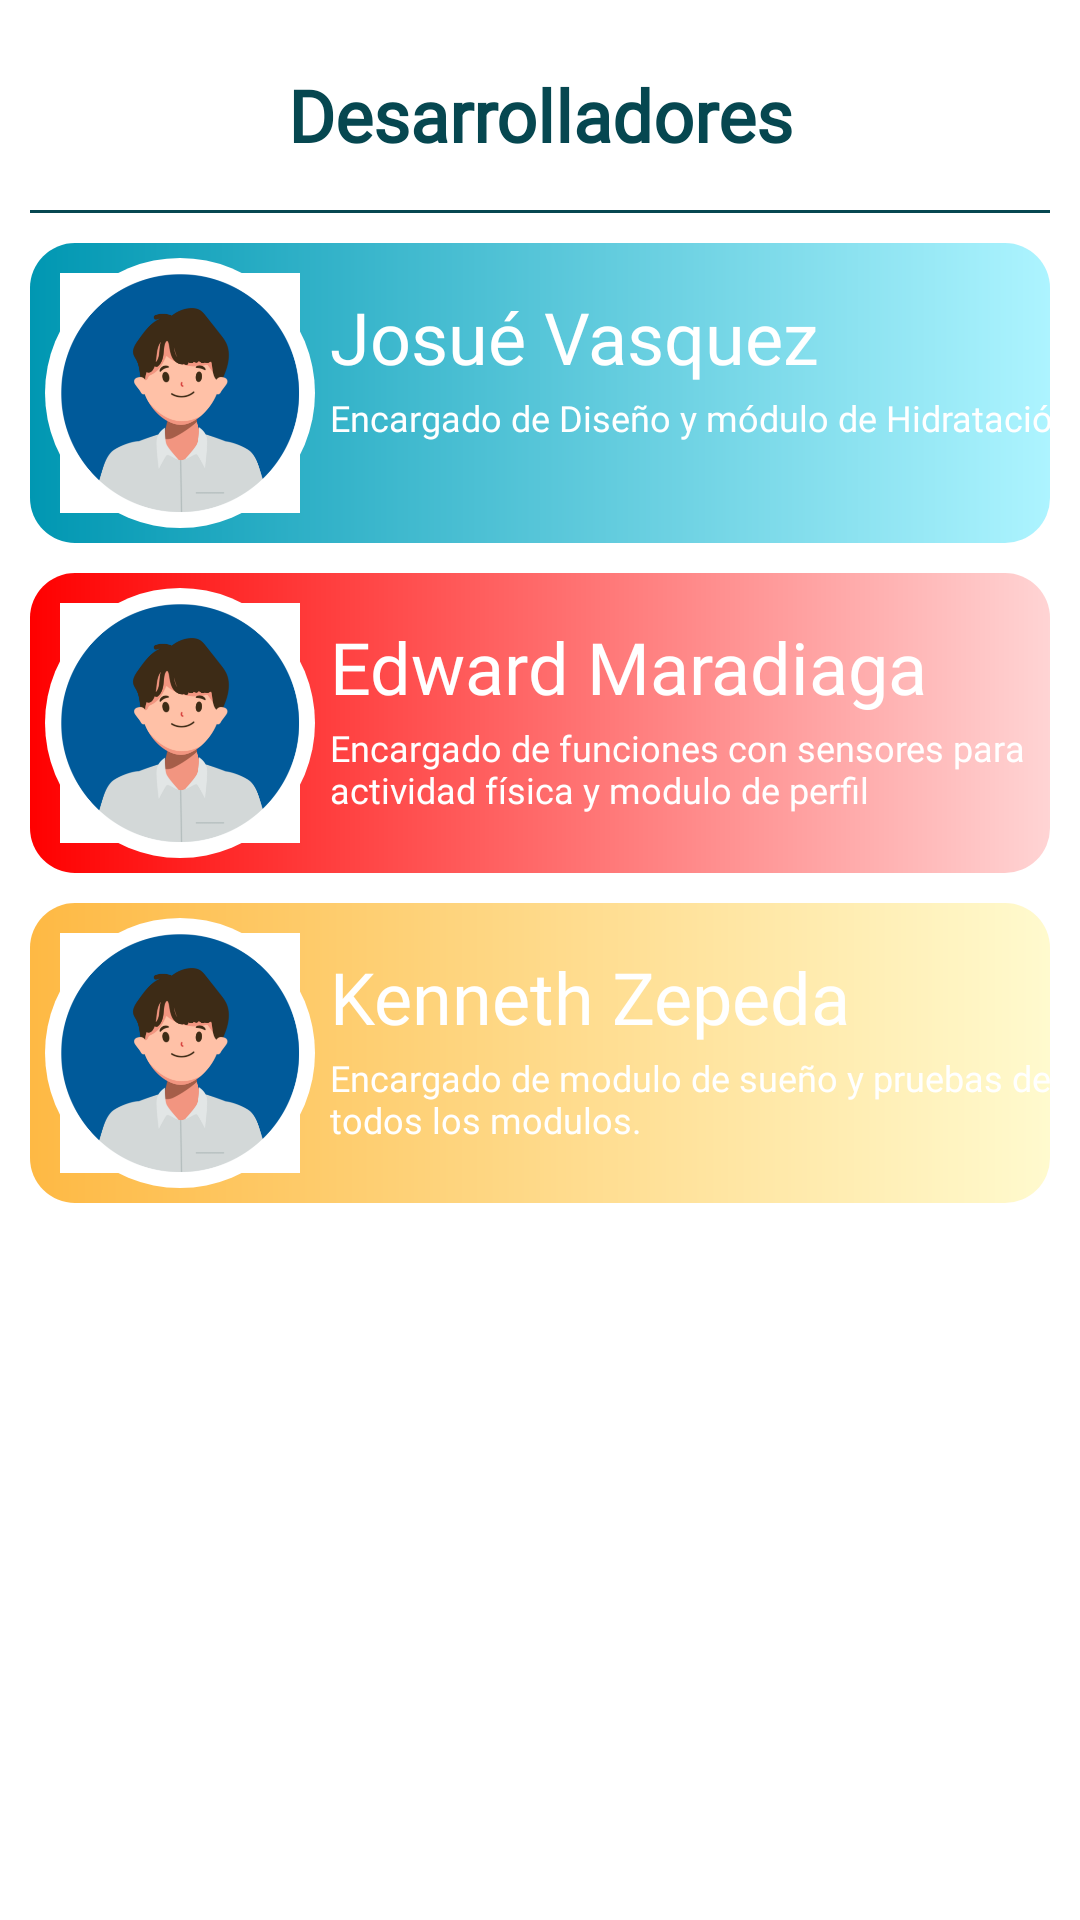

Named icons in this screenshot (1080w x 1920h) and their bounding boxes, (x1, y1, x2, y2):
profile example: (61, 274, 299, 512), (61, 604, 299, 842), (61, 934, 299, 1172)
